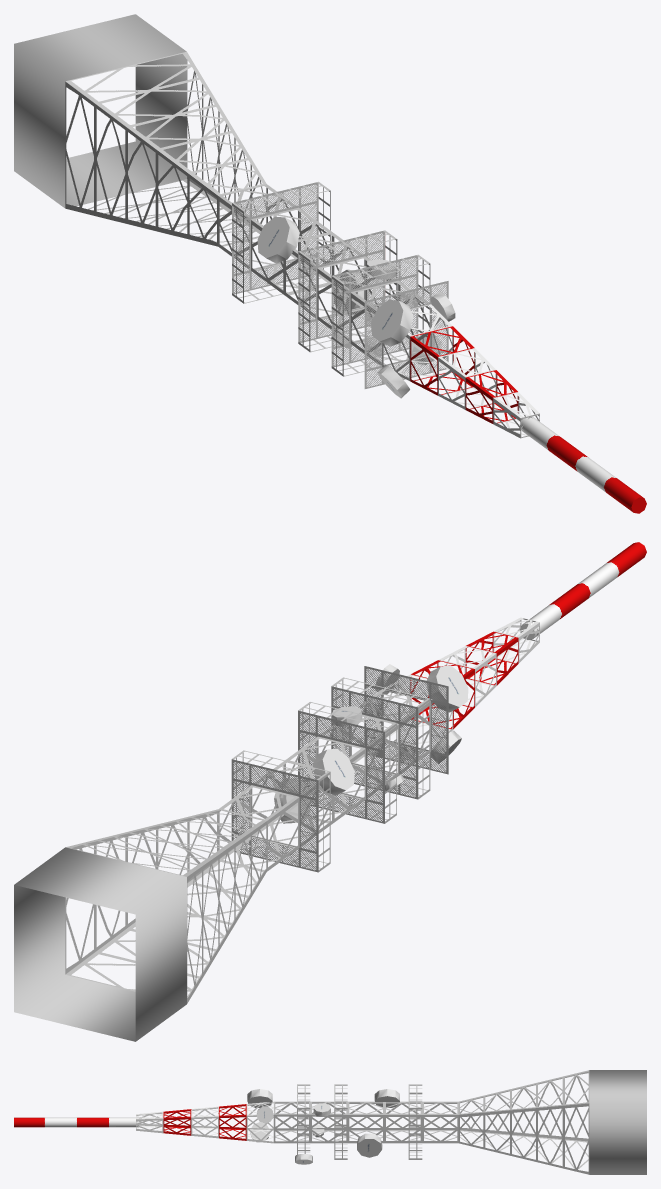
File: transmitter_small.obj
3 renders of one model, top to bottom at view 1: azimuth 30°, elevation 25°; view 2: azimuth 150°, elevation 25°; view 3: azimuth 270°, elevation 25°, orthographic. The views are drawn at different scales.
Visible parts, largest first — view 1: transmitter_small; view 2: transmitter_small; view 3: transmitter_small.
Boxes of the visible parts, x1,y1,x2,y2 form: transmitter_small: (14,14,646,513); transmitter_small: (14,542,646,1041); transmitter_small: (14,1070,646,1174).
Size of the model in its own units: 6.85 by 6.85 by 55.02.
1 material, 1 textured.
